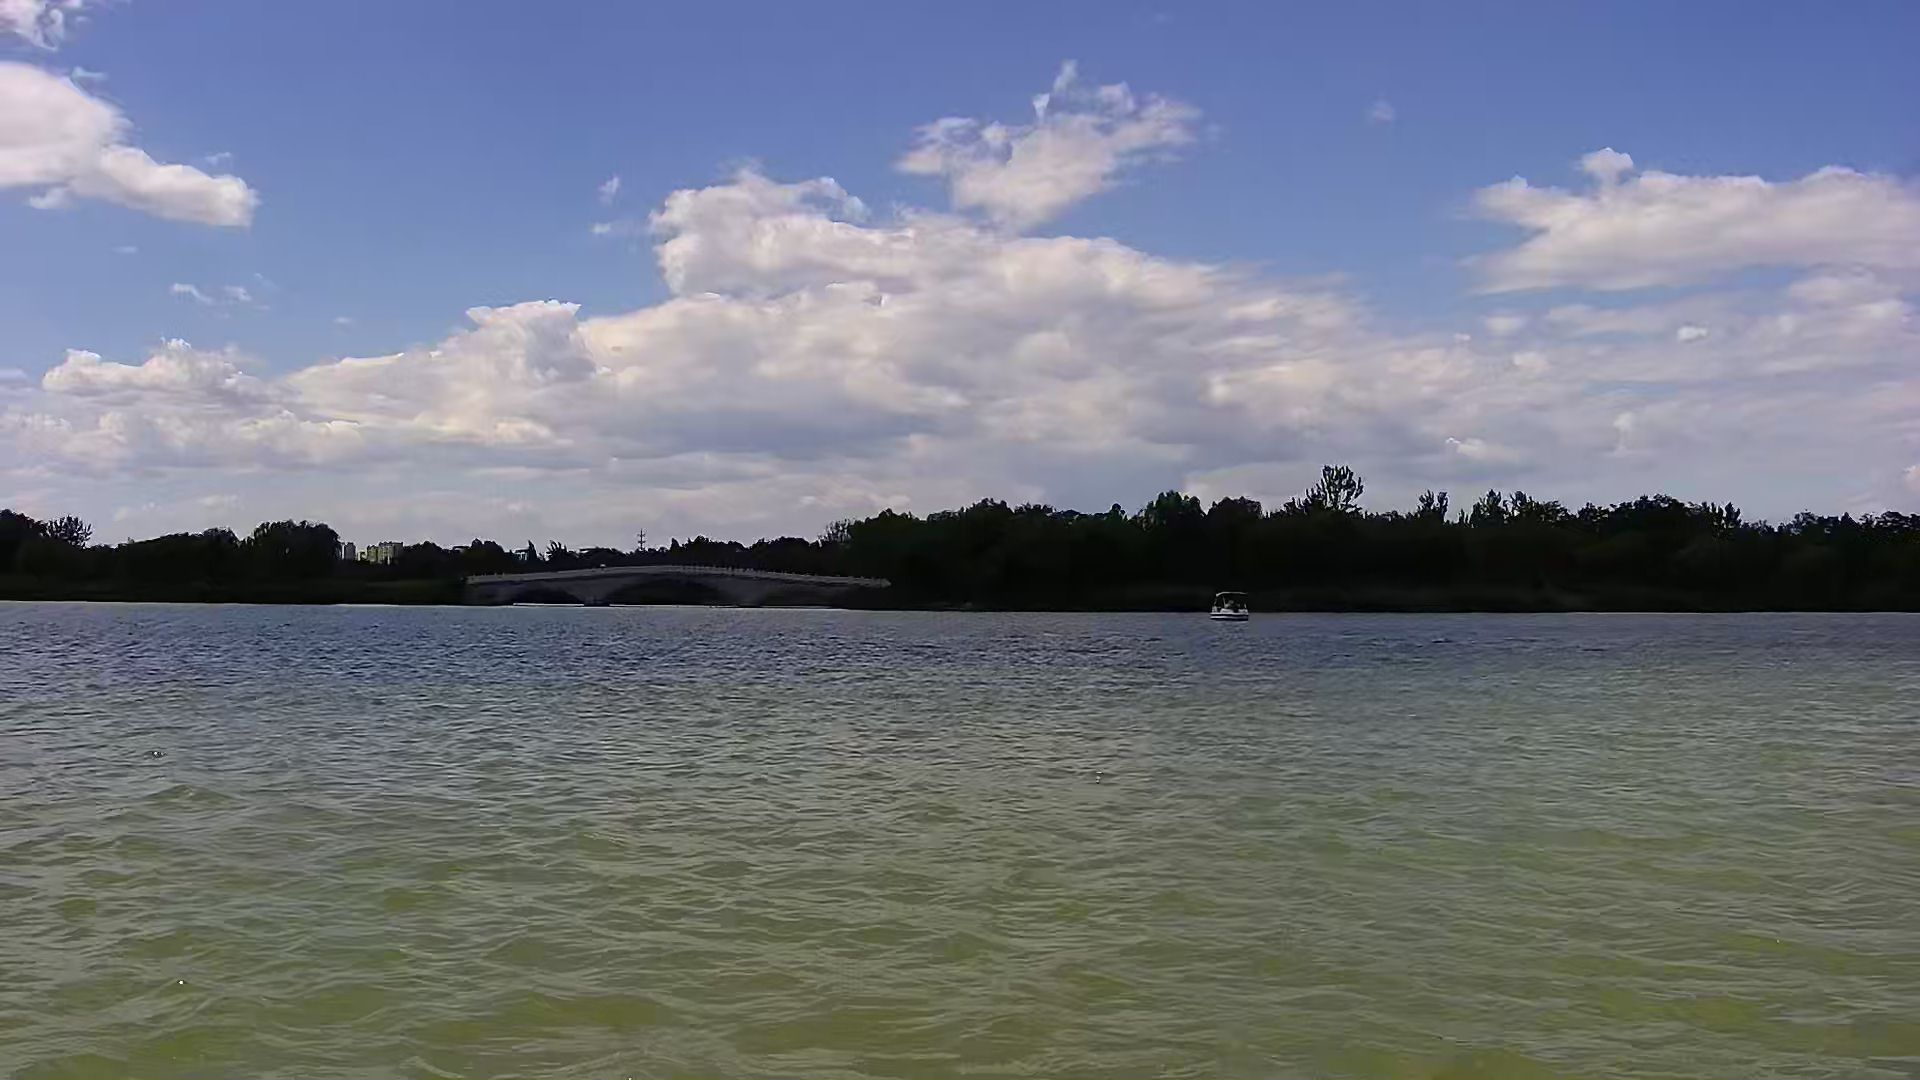boat: (1197, 582, 1259, 626)
bridge: (464, 560, 887, 608)
